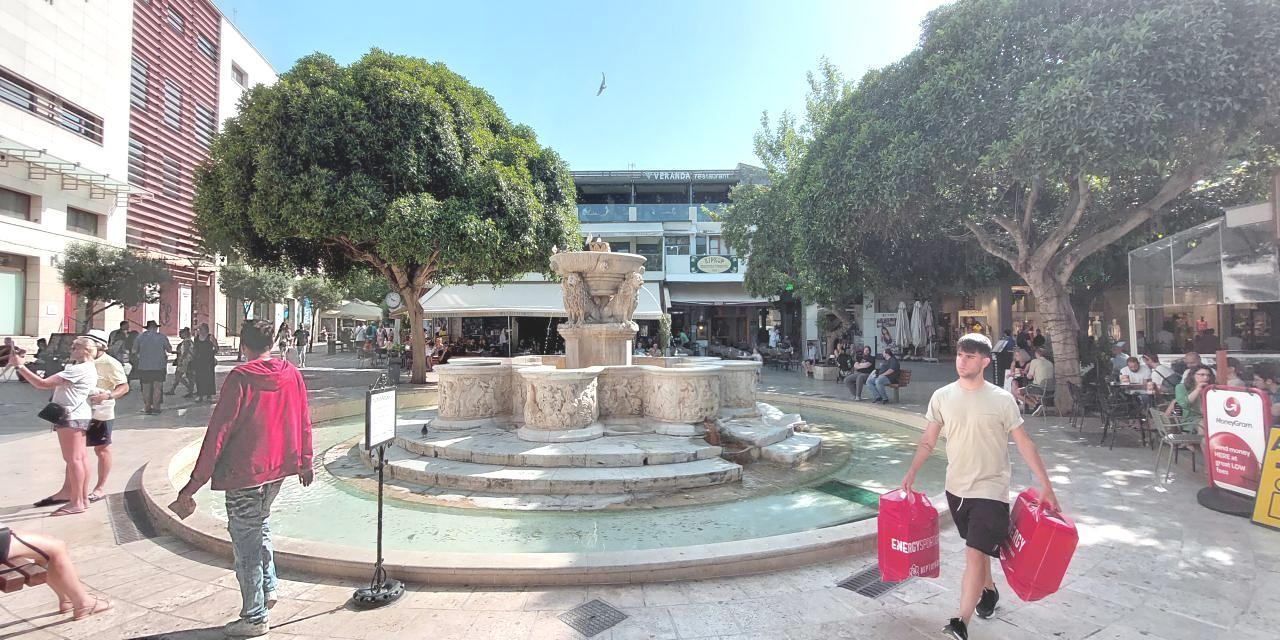Liontaria: (438, 249, 768, 430)
